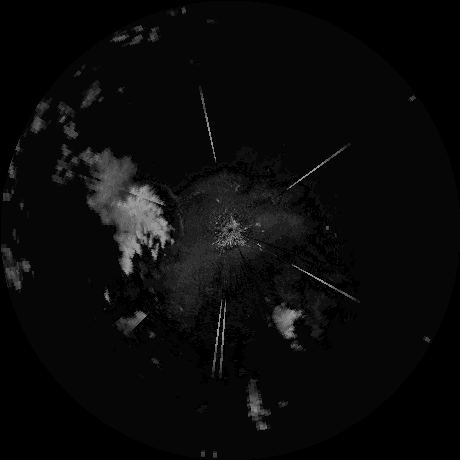frontgust: (160, 187, 186, 240)
